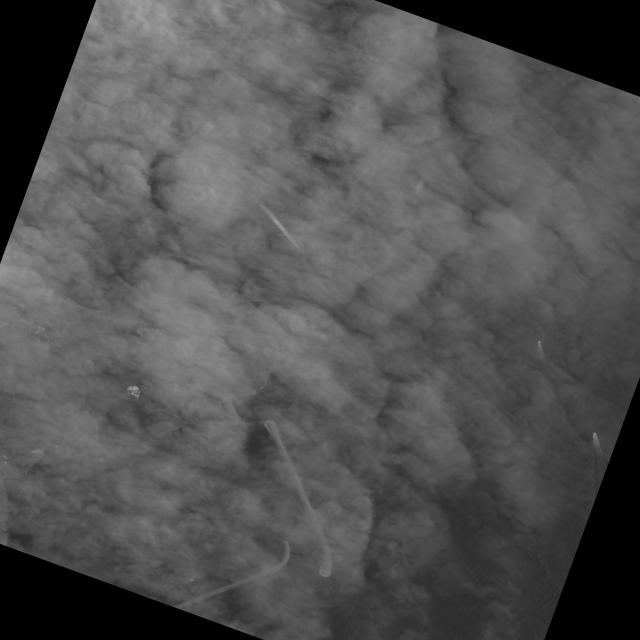ship: (299, 248, 306, 255), (187, 575, 196, 580), (189, 579, 195, 582), (248, 534, 254, 537), (308, 154, 311, 159), (415, 191, 418, 195), (538, 340, 541, 344), (594, 432, 596, 435)
